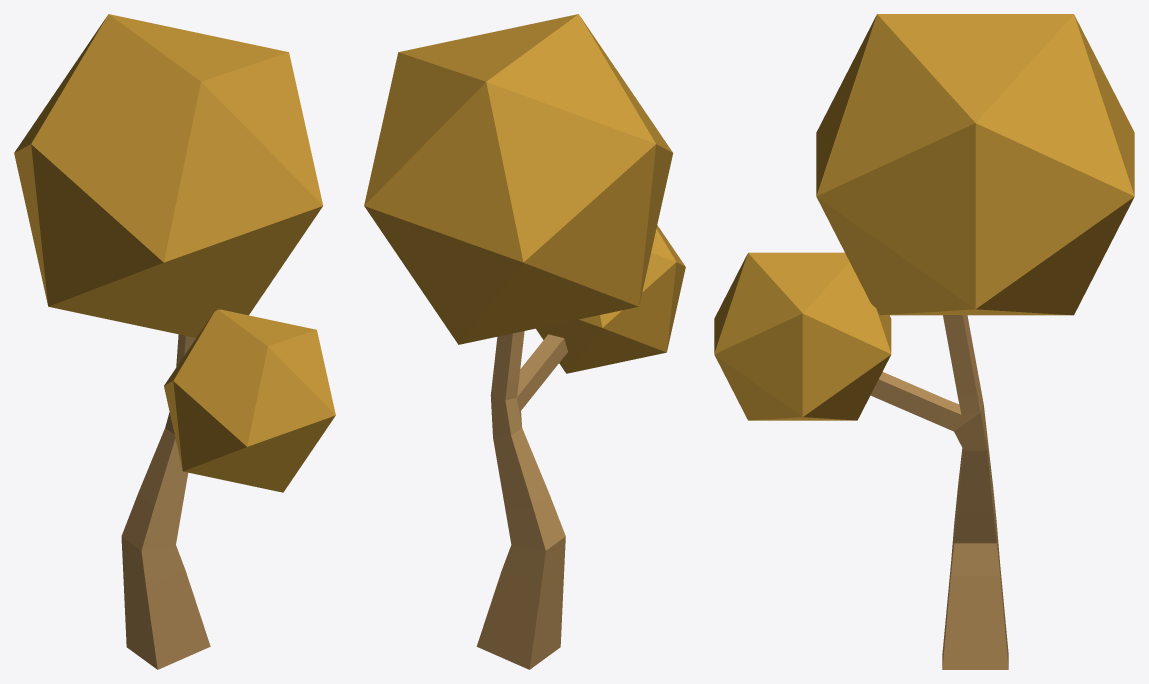
Rendered from tree_round_bonus_098.fbx.
3 views of the same model, side by side, from view 1: azimuth 30°, elevation 25°; view 2: azimuth 150°, elevation 25°; view 3: azimuth 270°, elevation 25° (orthographic). The views are drawn at different scales.
Parts seen in each view (by area): view 1: Icosphere.003, Icosphere.001, Cube.001; view 2: Icosphere.003, Cube.001, Icosphere.001; view 3: Icosphere.003, Icosphere.001, Cube.001.
Part boxes in pixels (box(x1,y1,x2,y2)): Icosphere.003: box(14, 14, 323, 337); Icosphere.001: box(164, 309, 335, 492); Cube.001: box(121, 334, 210, 669); Icosphere.003: box(364, 14, 673, 344); Cube.001: box(476, 331, 567, 669); Icosphere.001: box(536, 225, 685, 373); Icosphere.003: box(816, 14, 1134, 315); Icosphere.001: box(714, 252, 891, 420); Cube.001: box(870, 315, 1008, 669).
Size of the model in its own units: 180 by 381 by 225.
